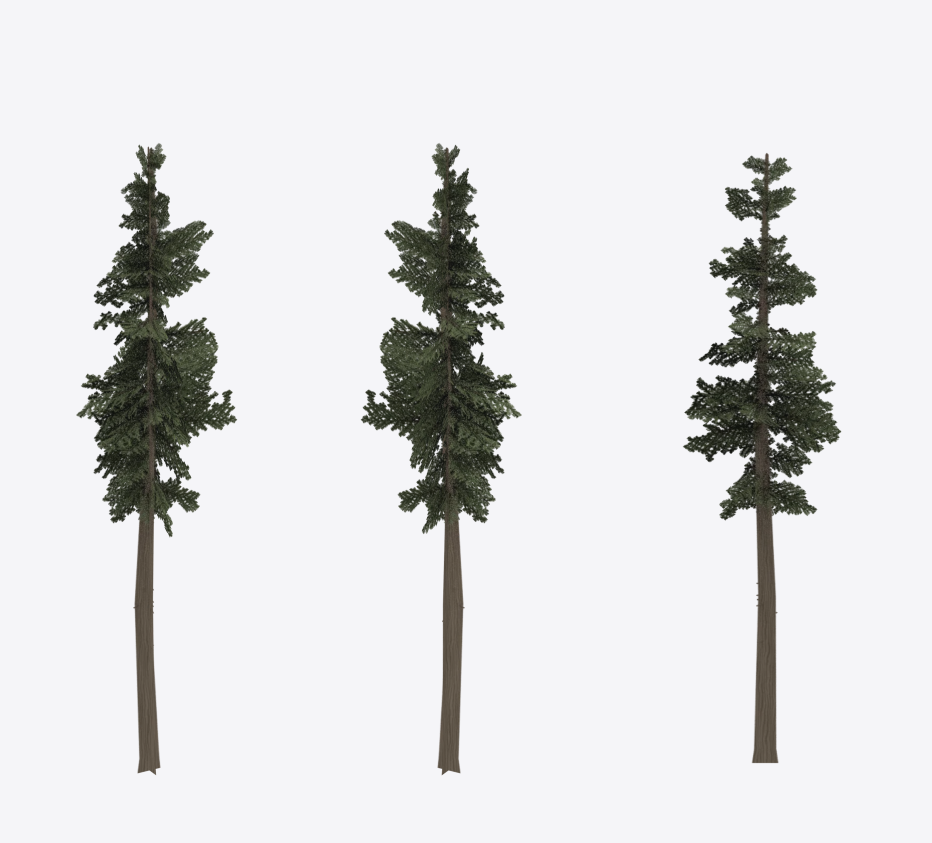
The model's file is dfirf.glb.
3 views of the same model, side by side, from view 1: azimuth 30°, elevation 25°; view 2: azimuth 150°, elevation 25°; view 3: azimuth 270°, elevation 25° (orthographic). The views are drawn at different scales.
Visible parts, largest first — view 1: dfir_lod1; view 2: dfir_lod1; view 3: dfir_lod1.
Boxes of the visible parts, bbox=[...] form: dfir_lod1: bbox=[76, 143, 236, 774]; dfir_lod1: bbox=[361, 143, 521, 774]; dfir_lod1: bbox=[683, 153, 840, 762].
Size of the model in its own units: 12.36 by 30.56 by 12.36.
1 material, 1 textured.
